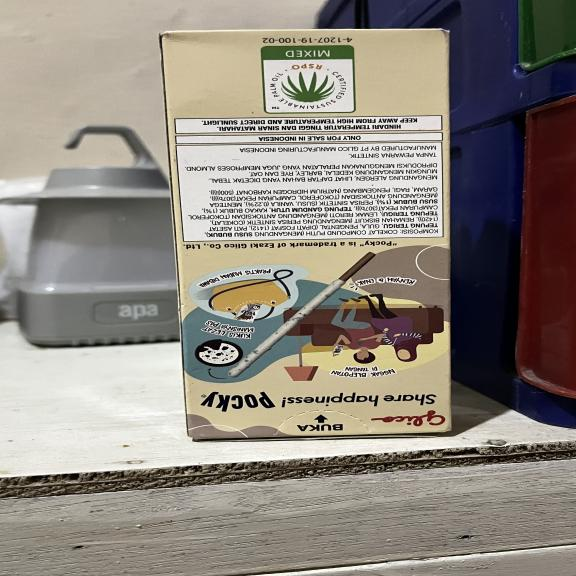Kertas: (160, 29, 457, 440)
